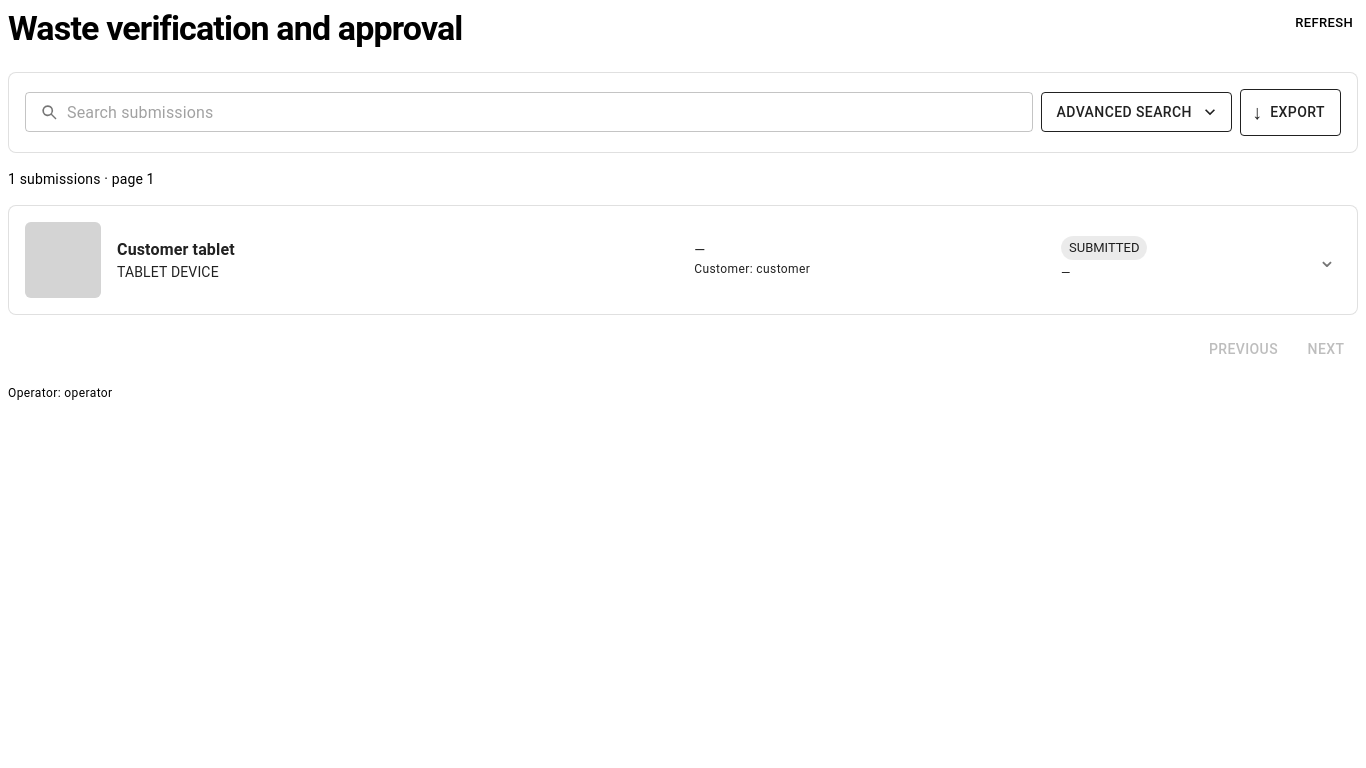
Test: explicit review assignment › shows the other reviewer and never offers their assignment or edit controls
The image size is (1366, 768).
Step 1. Click the button with aria-label "Open details: Customer tablet" → click(63, 260), box [9,206,1305,314]
(page scrolled)
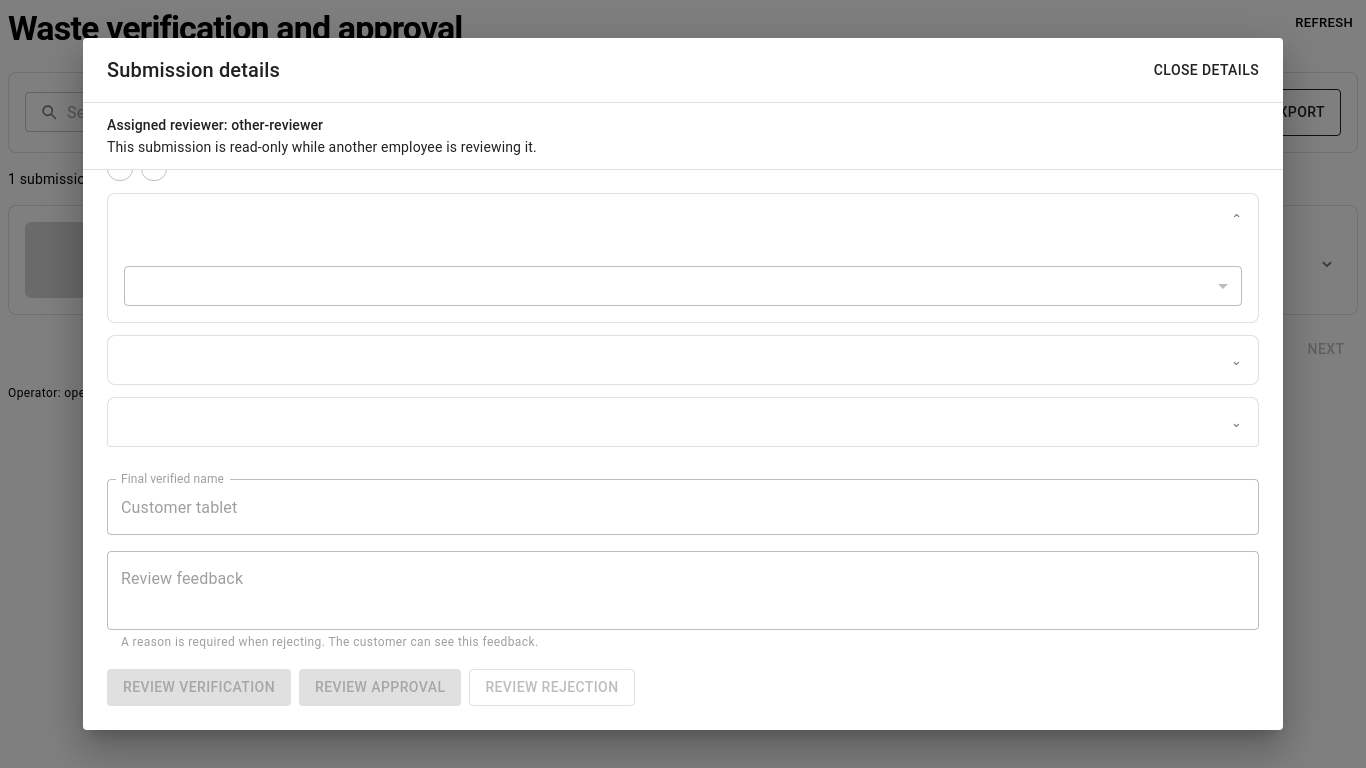
Check: the heading "Assigned reviewer: other-reviewer" is shown, box [107,117,323,133]
Check: the field labelled "Final verified name" is disabled, box [107,479,1259,535]
Check: the text box labelled "Review feedback" is disabled, box [121,568,1245,614]
